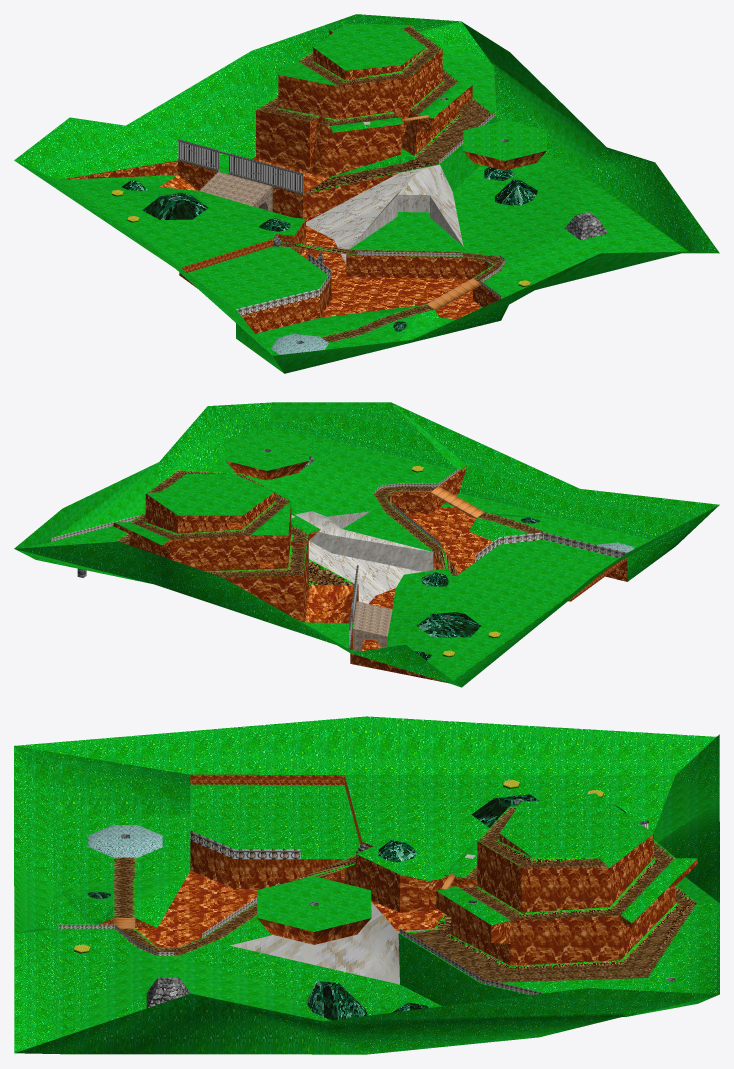
The model's file is bomb-bomb-battlefield.glb.
3 renders of one model, top to bottom at view 1: azimuth 30°, elevation 25°; view 2: azimuth 150°, elevation 25°; view 3: azimuth 270°, elevation 25°, orthographic. The views are drawn at different scales.
Visible parts, largest first — view 1: bomb-bomb-battelfield; view 2: bomb-bomb-battelfield; view 3: bomb-bomb-battelfield.
Boxes of the visible parts, box(x1,y1,x2,y2) form: bomb-bomb-battelfield: box(14, 14, 719, 373); bomb-bomb-battelfield: box(14, 402, 719, 687); bomb-bomb-battelfield: box(14, 716, 719, 1054).
Size of what is drawn, in the model's own units: 81.96 by 23.35 by 81.98.
Materials: 23 (23 with a texture image).
